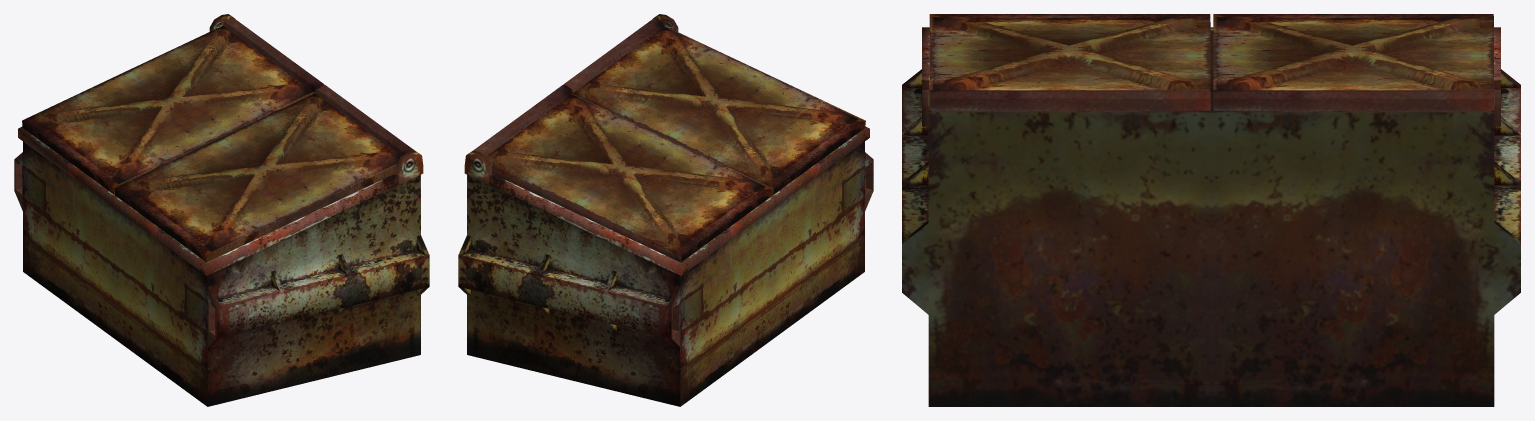
Rendered from Dumpster.obj.
The picture shows the model from 3 angles, left to right: view 1: azimuth 30°, elevation 25°; view 2: azimuth 150°, elevation 25°; view 3: azimuth 270°, elevation 25°; orthographic projection. The views are drawn at different scales.
Visible parts, largest first — view 1: __PrenotatoPerDuplicare_2, __PrenotatoPerDuplicare_0, __PrenotatoPerDuplicare_1; view 2: __PrenotatoPerDuplicare_2, __PrenotatoPerDuplicare_1, __PrenotatoPerDuplicare_0; view 3: __PrenotatoPerDuplicare_2, __PrenotatoPerDuplicare_0, __PrenotatoPerDuplicare_1.
Part boxes in pixels (x1,y1,x2,y2): __PrenotatoPerDuplicare_2: [14, 14, 429, 406]; __PrenotatoPerDuplicare_0: [114, 85, 414, 262]; __PrenotatoPerDuplicare_1: [22, 17, 324, 194]; __PrenotatoPerDuplicare_2: [458, 14, 873, 406]; __PrenotatoPerDuplicare_1: [473, 85, 773, 262]; __PrenotatoPerDuplicare_0: [563, 17, 865, 194]; __PrenotatoPerDuplicare_2: [902, 27, 1520, 406]; __PrenotatoPerDuplicare_0: [929, 14, 1210, 110]; __PrenotatoPerDuplicare_1: [1213, 14, 1493, 110].
Bounding box in the file's own units: 111 × 101 × 180.
